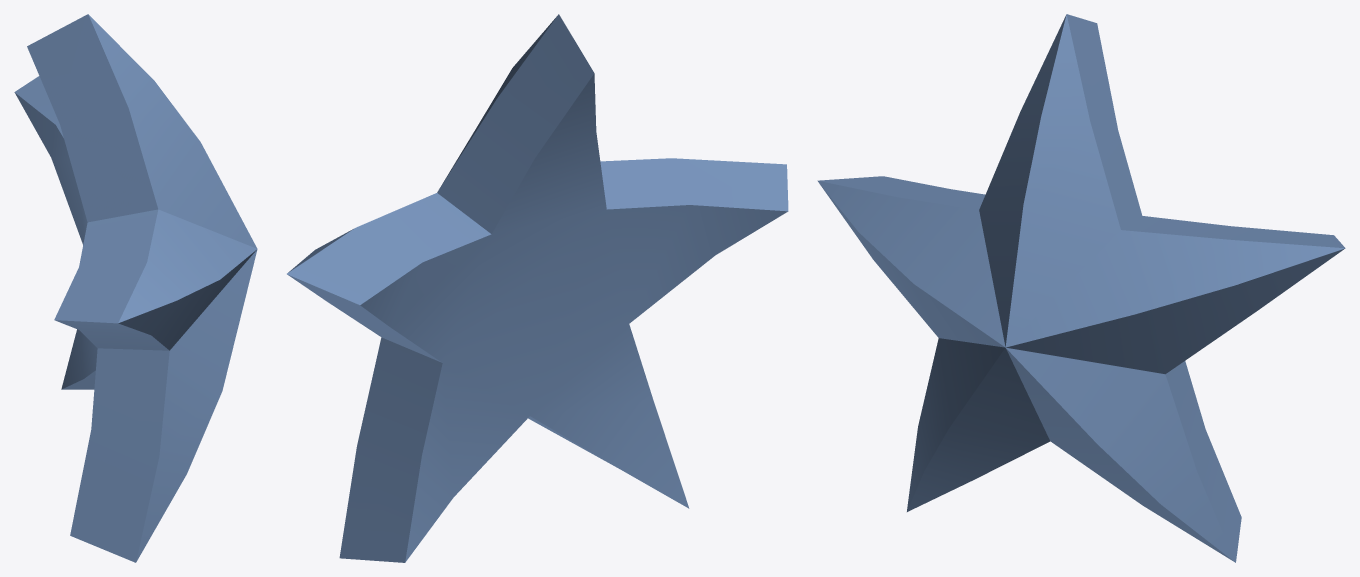
File: BR5_Frame_Star.001 3.glb
The picture shows the model from 3 angles, left to right: view 1: azimuth 30°, elevation 25°; view 2: azimuth 150°, elevation 25°; view 3: azimuth 270°, elevation 25°; orthographic projection. The views are drawn at different scales.
Parts seen in each view (by area): view 1: BR5_Frame_Star.001; view 2: BR5_Frame_Star.001; view 3: BR5_Frame_Star.001.
Part boxes in pixels (x1,y1,x2,y2): BR5_Frame_Star.001: [14, 14, 257, 562]; BR5_Frame_Star.001: [287, 14, 788, 562]; BR5_Frame_Star.001: [817, 14, 1345, 562].
Size of the model in its own units: 0.2611 by 0.4505 by 0.4207.
